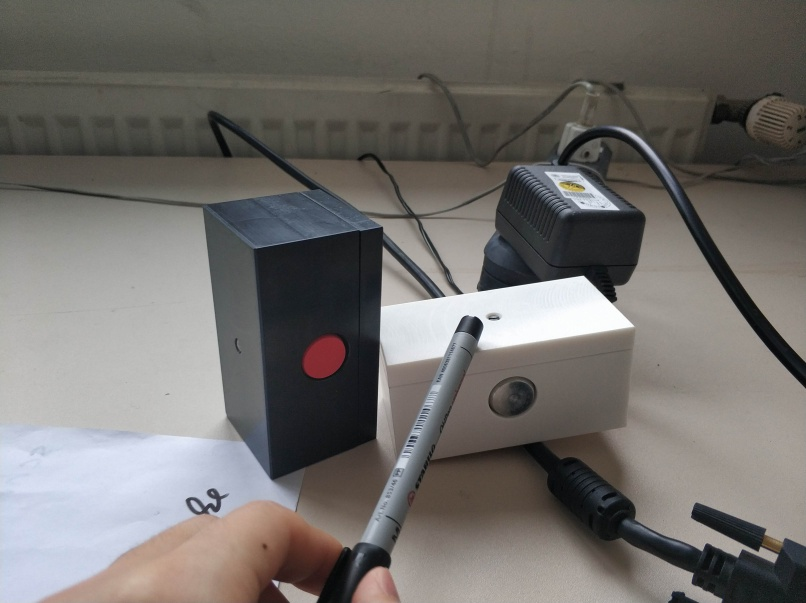black+black+red: (201, 187, 386, 483)
white+white+silver: (377, 270, 635, 466)
